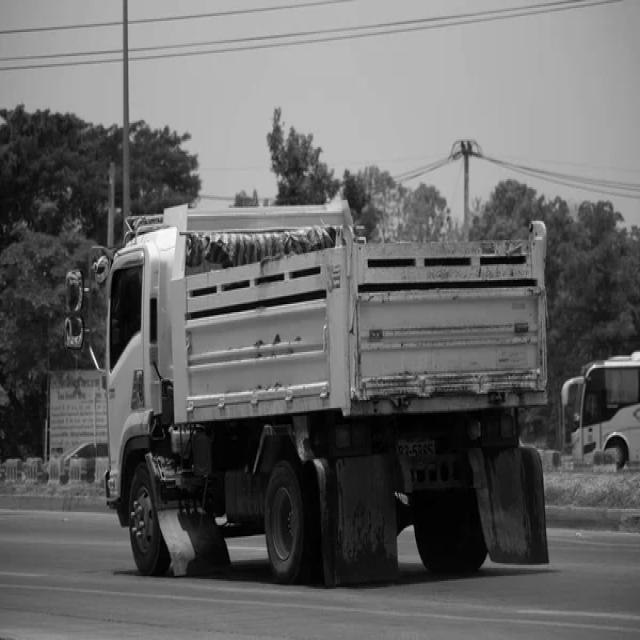Truck: (105, 202, 550, 586), (564, 352, 640, 468)
